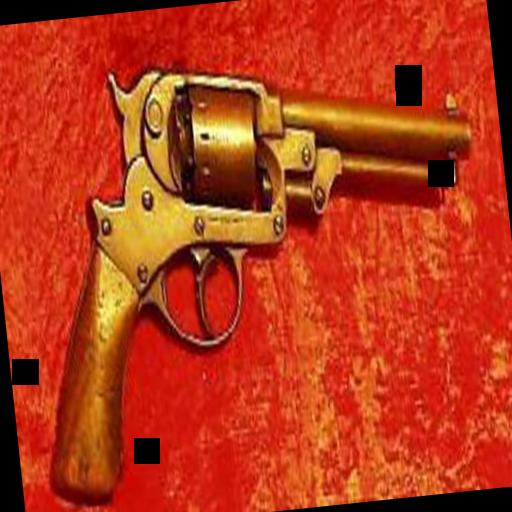Handgun: (4, 30, 508, 510)
